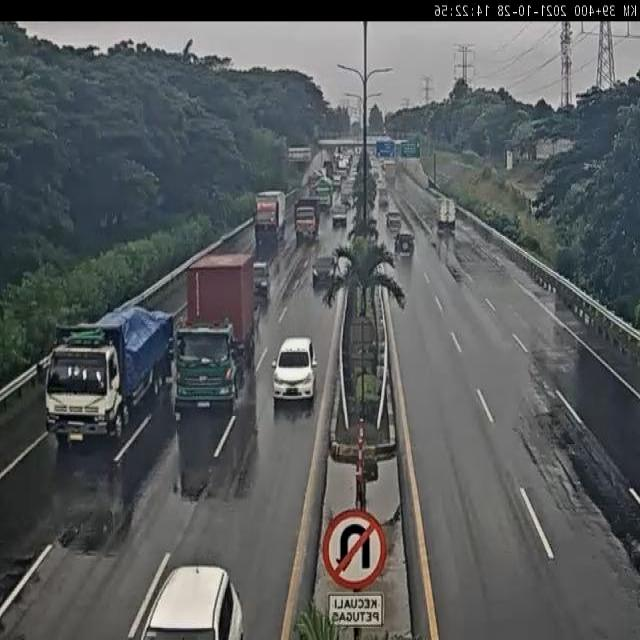Car: (132, 558, 268, 640), (268, 330, 318, 416), (239, 256, 272, 308), (306, 255, 338, 292), (392, 227, 418, 263), (382, 205, 410, 233), (329, 203, 348, 232)
Truck: (30, 283, 173, 448), (152, 256, 260, 415), (242, 176, 288, 251), (288, 194, 323, 243), (432, 188, 462, 233)
